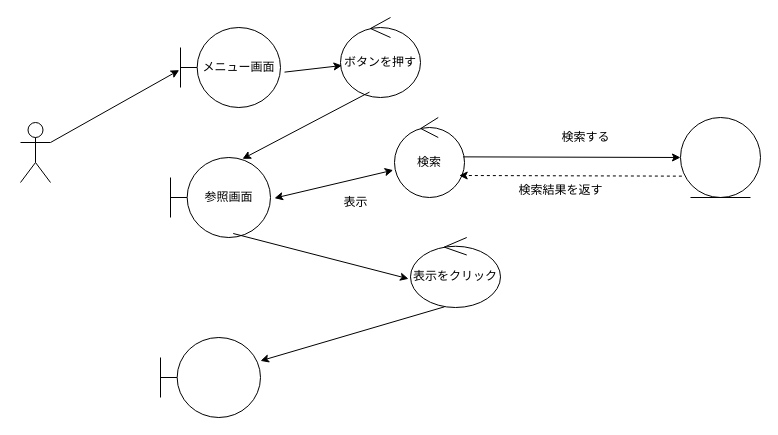
Image size: 778x435. Some labels were removed from this diagram. The centre of each missing label's shape, as x and y in pixels:
プロフィール画面: [210,377]
訪問者: [35,152]
訪問者データ: [720,157]
